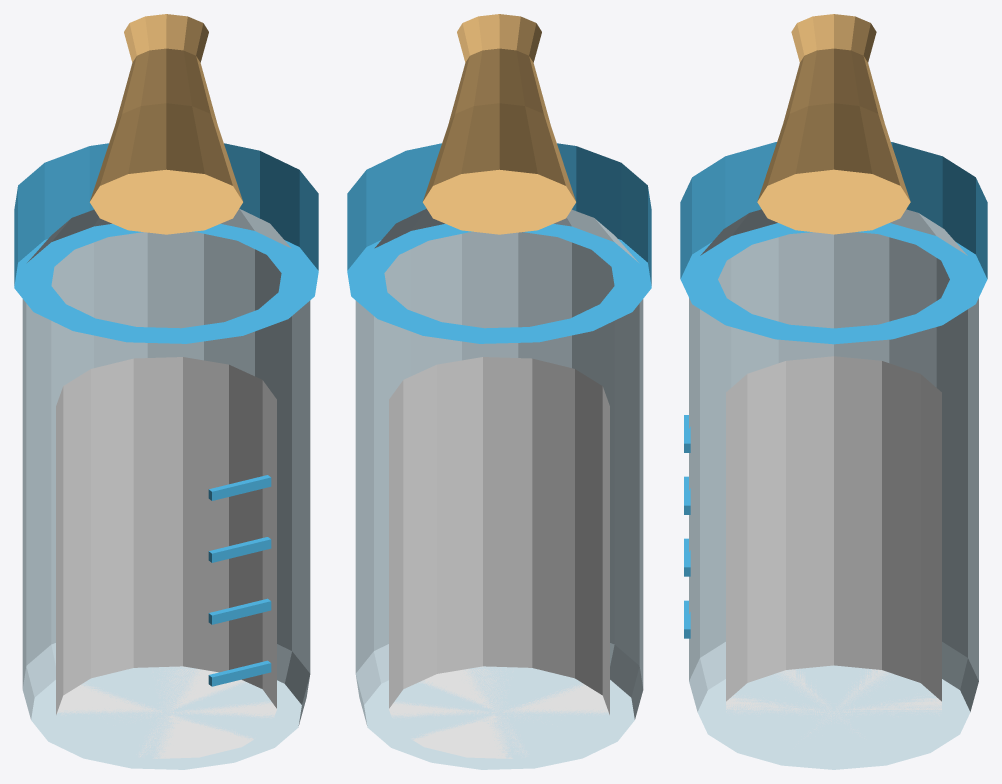
Rendered from nappflaska.glb.
3 renders of one model, left to right at view 1: azimuth 30°, elevation 25°; view 2: azimuth 150°, elevation 25°; view 3: azimuth 270°, elevation 25°, orthographic.
Visible parts, largest first — view 1: nappflaska; view 2: nappflaska; view 3: nappflaska.
Boxes of the visible parts, x1,y1,x2,y2 form: nappflaska: (14, 14, 318, 769); nappflaska: (347, 14, 651, 769); nappflaska: (680, 14, 987, 769).
Size of the model in its own units: 0.18 by 0.45 by 0.18.
